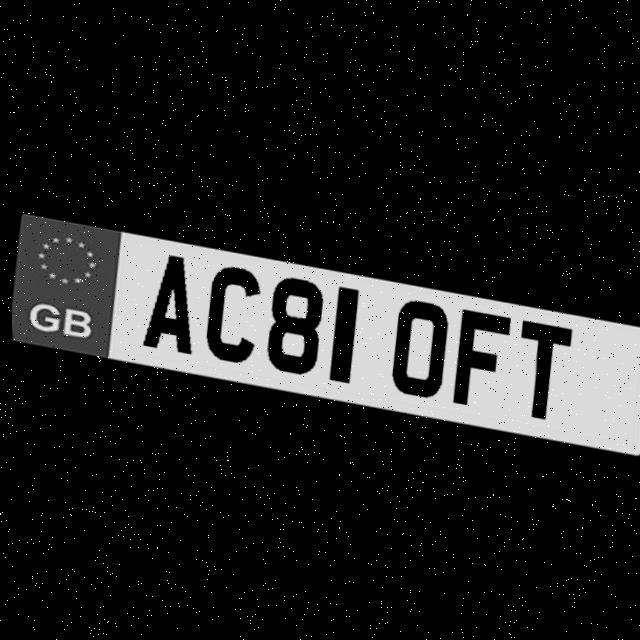license-plates: (11, 213, 640, 453)
